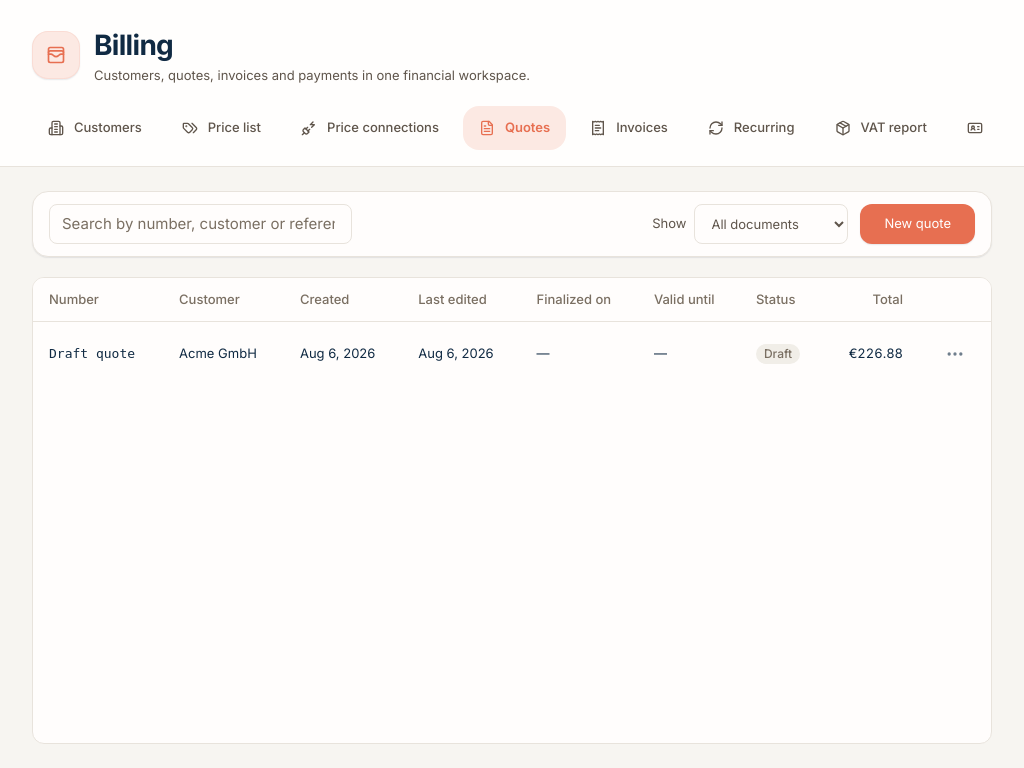
the quote list › a quotation can be opened directly in preview from its row actions
This screenshot has width=1024, height=768.
What coordinates should you click on to do the following:
click the button named "More actions"
I would click on:
 (955, 354)
Its box is [935,334,975,374].
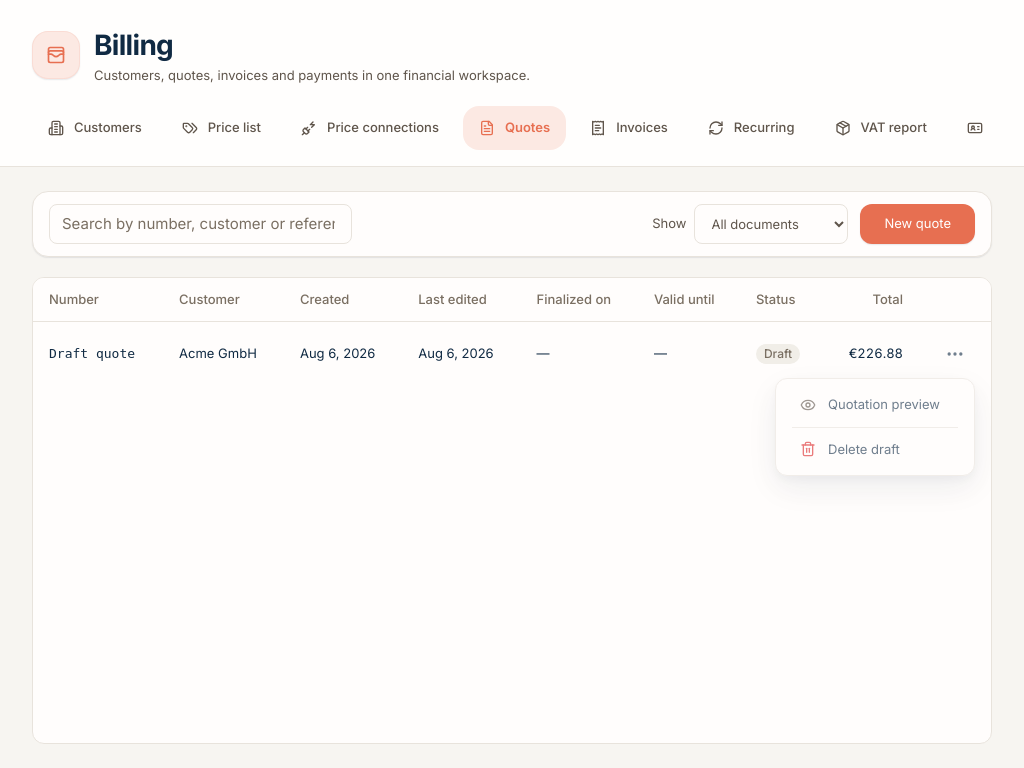
What coordinates should you click on to do the following:
click the menu item "Quotation preview"
I would click on:
 (875, 405)
Its box is [784,387,966,422].
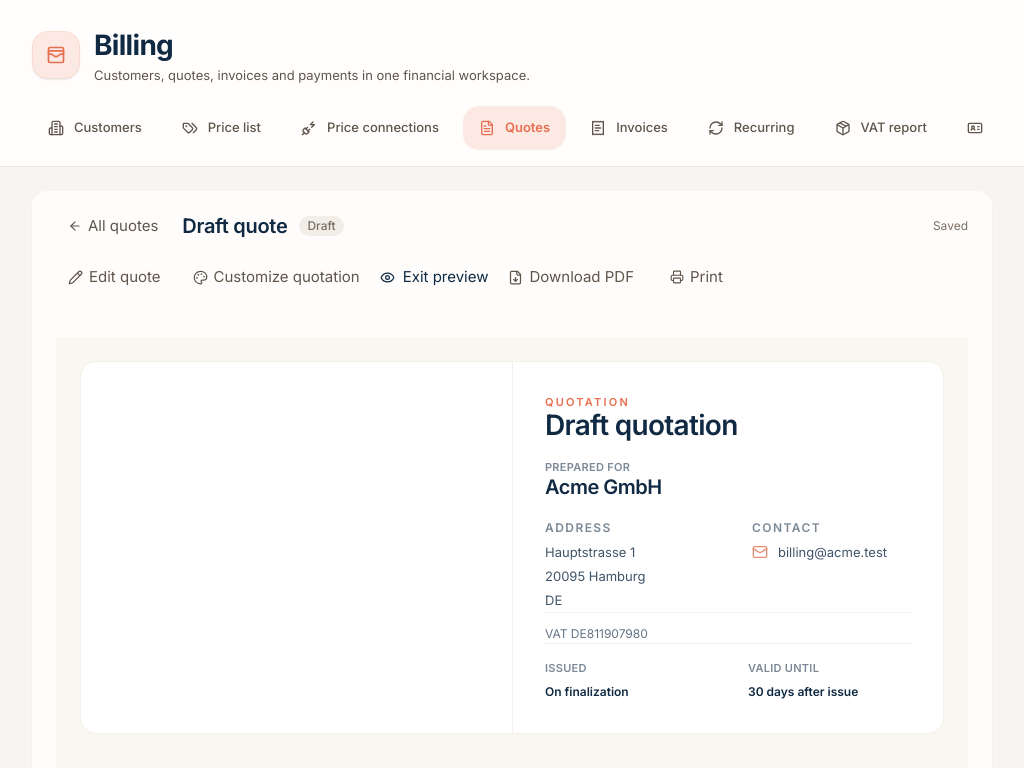
Expected: the button "Exit preview" is shown, [380,257,488,297]
